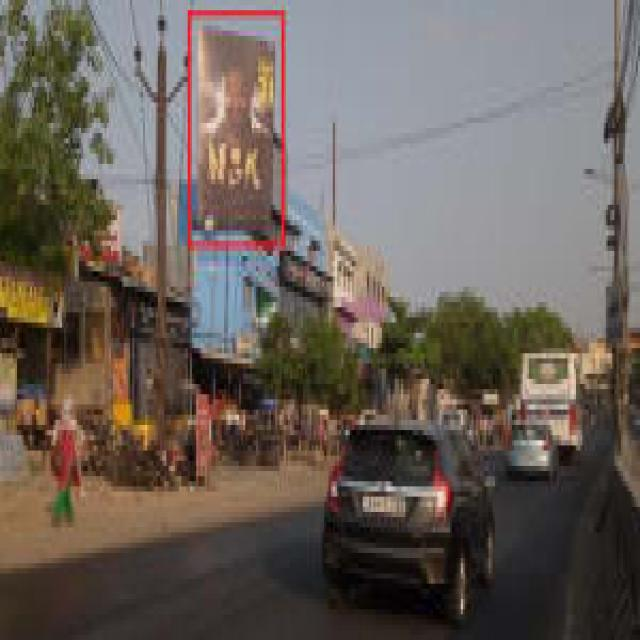Werbetafel frei: (198, 26, 274, 232)
